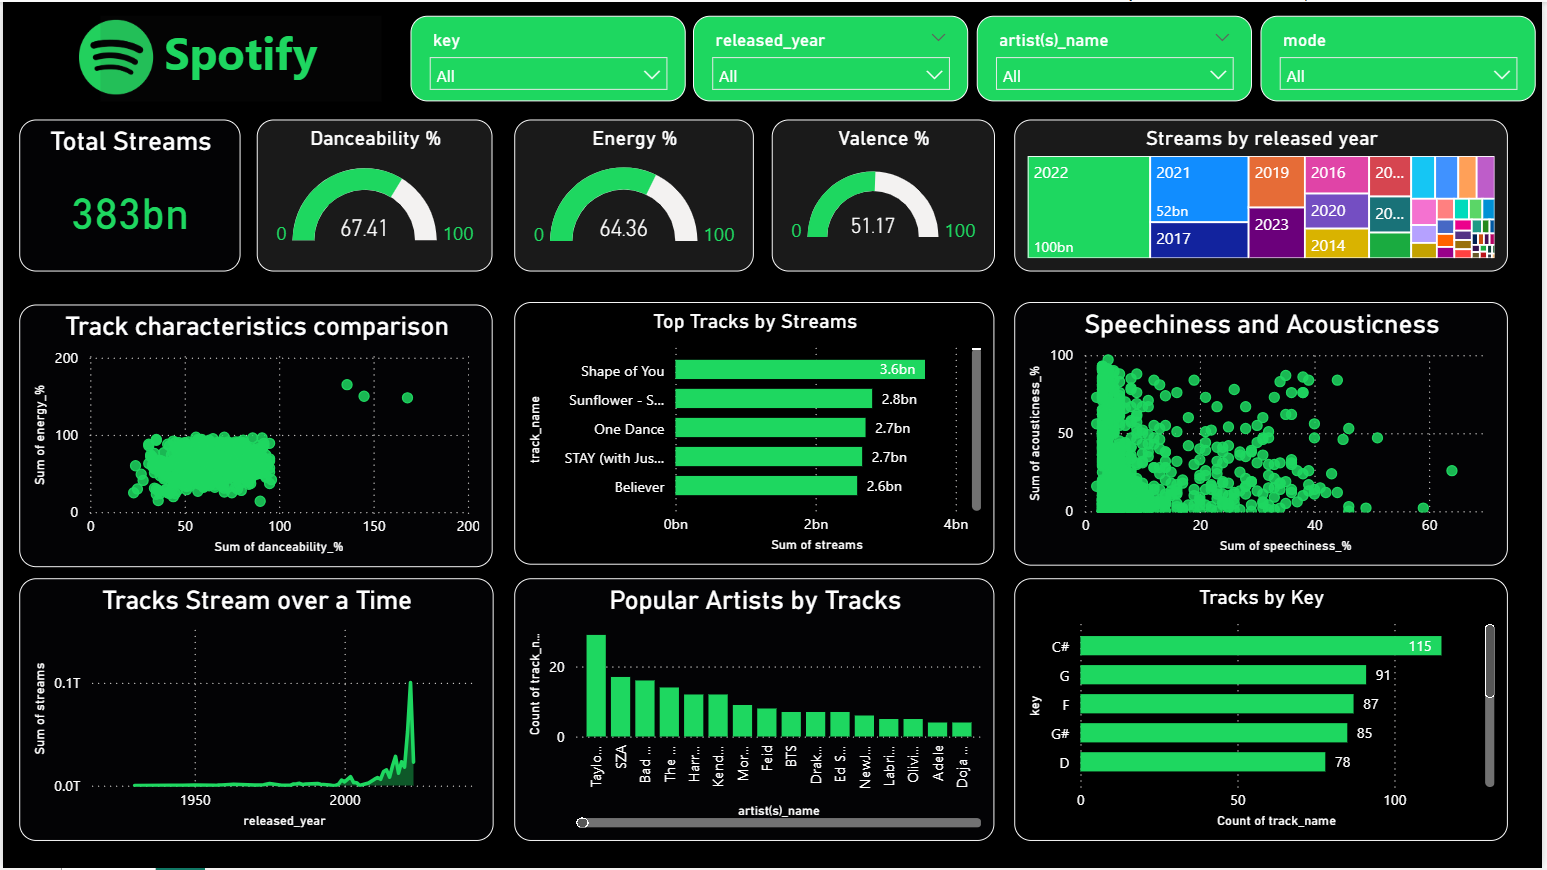

This screenshot's page, from the dashboard's own definition file:
{"tool":"powerbi","page":{"name":"Page 1","canvas":[1280,720],"ordinal":0},"visuals":[{"type":"slicer","fields":{"Values":["spotify-2023 (2).key"]},"box":[338.9,11,229.2,71.4],"z":0},{"type":"slicer","fields":{"Values":["spotify-2023 (2).released_year"]},"box":[573.6,11,229.2,71.4],"z":1000},{"type":"slicer","fields":{"Values":["spotify-2023 (2).artist(s)_name"]},"box":[809.6,11,229.2,71.4],"z":2000},{"type":"slicer","fields":{"Values":["spotify-2023 (2).mode"]},"box":[1045.6,11,229.2,71.4],"z":3000},{"type":"card","title":"Total Streams","fields":{"Values":["Sum(spotify-2023 (2).streams)"]},"box":[13.7,97.4,183.9,126.2],"z":4000},{"type":"gauge","title":"Danceability %","fields":{"Y":["Avg(spotify-2023 (2).danceability_%)"]},"box":[211.3,97.4,196.2,126.2],"z":5000},{"type":"gauge","title":"Energy %","fields":{"Y":["Avg(spotify-2023 (2).energy_%)"]},"box":[425.4,97.4,199,126.2],"z":6000},{"type":"gauge","title":"Valence %","fields":{"Y":["Avg(spotify-2023 (2).valence_%)"]},"box":[639.5,97.4,185.2,126.2],"z":7000},{"type":"treemap","title":"Streams by released year","fields":{"Group":["spotify-2023 (2).released_year"],"Values":["Sum(spotify-2023 (2).streams)"]},"box":[841.2,97.4,410.3,126.2],"z":8000},{"type":"scatterChart","title":"Track characteristics comparison","fields":{"Category":["spotify-2023 (2).streams"],"X":["Sum(spotify-2023 (2).danceability_%)"],"Y":["Sum(spotify-2023 (2).energy_%)"]},"box":[13.7,251.1,393.8,218.2],"z":9000},{"type":"clusteredBarChart","title":"Top Tracks by Streams","fields":{"Category":["spotify-2023 (2).track_name"],"Y":["Sum(spotify-2023 (2).streams)"]},"box":[425.4,249.7,399.3,218.2],"z":10000},{"type":"scatterChart","title":"Speechiness and Acousticness","fields":{"Category":["spotify-2023 (2).streams"],"X":["Sum(spotify-2023 (2).speechiness_%)"],"Y":["Sum(spotify-2023 (2).acousticness_%)"]},"box":[841.2,249.7,410.3,219.6],"z":11000},{"type":"areaChart","title":"Tracks Stream over a Time","fields":{"Category":["spotify-2023 (2).released_year"],"Y":["Sum(spotify-2023 (2).streams)"]},"box":[14,479,394,218],"z":12000},{"type":"columnChart","title":"Popular Artists by Tracks","fields":{"Category":["spotify-2023 (2).artist(s)_name"],"Y":["Count(spotify-2023 (2).track_name)"]},"box":[425.4,478.9,399.3,218.2],"z":13000},{"type":"clusteredBarChart","title":"Tracks by Key","fields":{"Category":["spotify-2023 (2).key"],"Y":["CountNonNull(spotify-2023 (2).track_name)"]},"box":[841.2,478.9,410.3,218.2],"z":14000},{"type":"image","box":[13.7,8.2,160.5,74.1],"z":15000},{"type":"textbox","box":[81,11,233.3,71.4],"z":16000}]}

Visuals, with their boxes in screenshot pixels (x1, y1, x2, y2), scaled from the page's 1280x720 canvas onto the 1547x870 screenshot:
slicer - spotify-2023 (2).key: locate(410, 13, 687, 100)
slicer - spotify-2023 (2).released_year: locate(693, 13, 970, 100)
slicer - spotify-2023 (2).artist(s)_name: locate(978, 13, 1255, 100)
slicer - spotify-2023 (2).mode: locate(1264, 13, 1541, 100)
"Total Streams" card: locate(17, 118, 239, 270)
"Danceability %" gauge: locate(255, 118, 493, 270)
"Energy %" gauge: locate(514, 118, 755, 270)
"Valence %" gauge: locate(773, 118, 997, 270)
"Streams by released year" treemap: locate(1017, 118, 1513, 270)
"Track characteristics comparison" scatterChart: locate(17, 303, 493, 567)
"Top Tracks by Streams" clusteredBarChart: locate(514, 302, 997, 565)
"Speechiness and Acousticness" scatterChart: locate(1017, 302, 1513, 567)
"Tracks Stream over a Time" areaChart: locate(17, 579, 493, 842)
"Popular Artists by Tracks" columnChart: locate(514, 579, 997, 842)
"Tracks by Key" clusteredBarChart: locate(1017, 579, 1513, 842)
image: locate(17, 10, 211, 99)
textbox: locate(98, 13, 380, 100)
